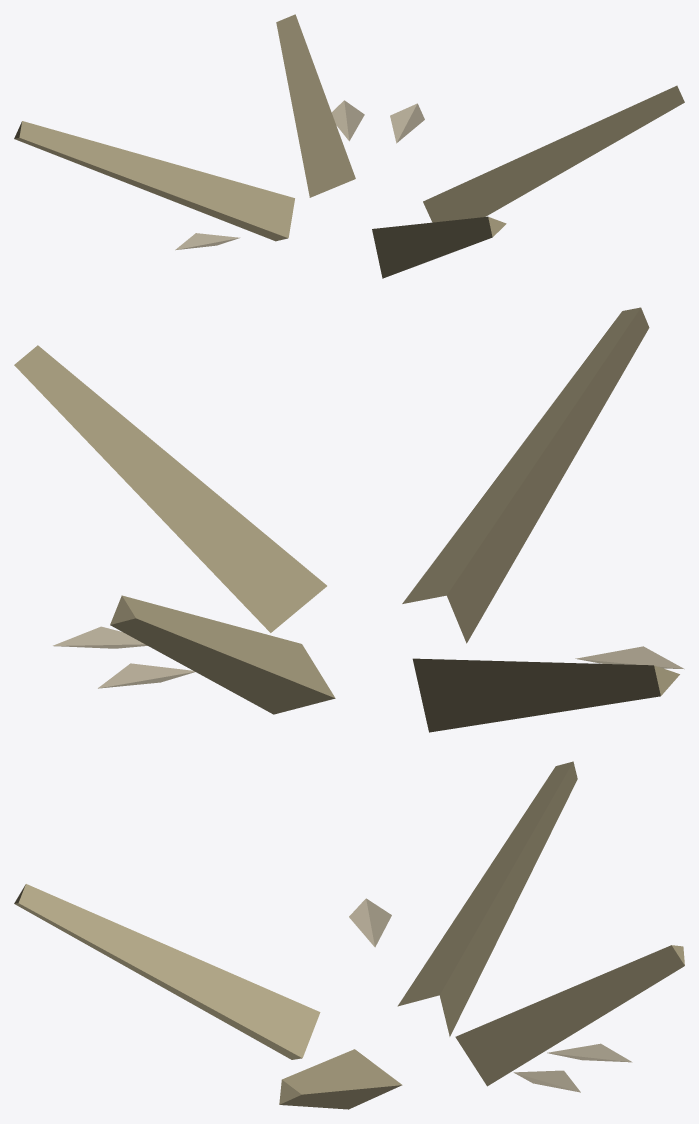
The model's file is guan.aili@withered__summer.glb.
The picture shows the model from 3 angles, top to bottom: view 1: azimuth 30°, elevation 25°; view 2: azimuth 150°, elevation 25°; view 3: azimuth 270°, elevation 25°; orthographic projection. The views are drawn at different scales.
Parts seen in each view (by area): view 1: guan.aili@withered__summer; view 2: guan.aili@withered__summer; view 3: guan.aili@withered__summer.
Part boxes in pixels (left/top/right/bottom): guan.aili@withered__summer: left=14, top=14, right=684, bottom=278; guan.aili@withered__summer: left=14, top=307, right=684, bottom=732; guan.aili@withered__summer: left=14, top=761, right=684, bottom=1109.
Size of the model in its own units: 0.5417 by 0.1369 by 0.4773.
